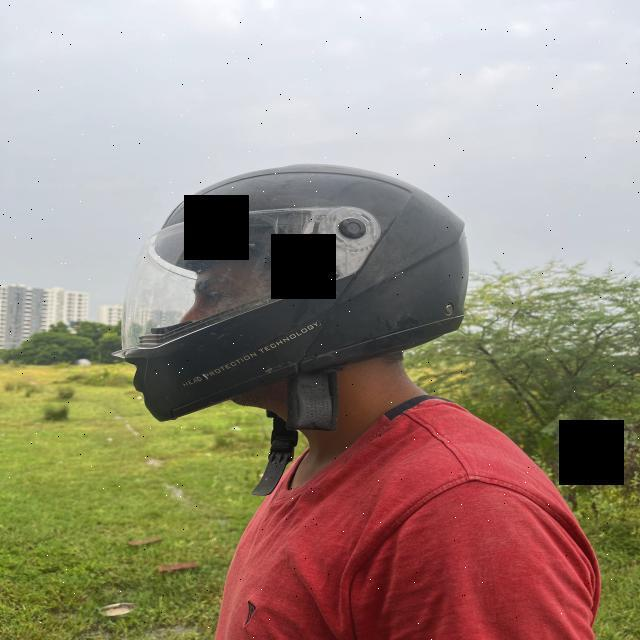helmet: (118, 162, 466, 432)
